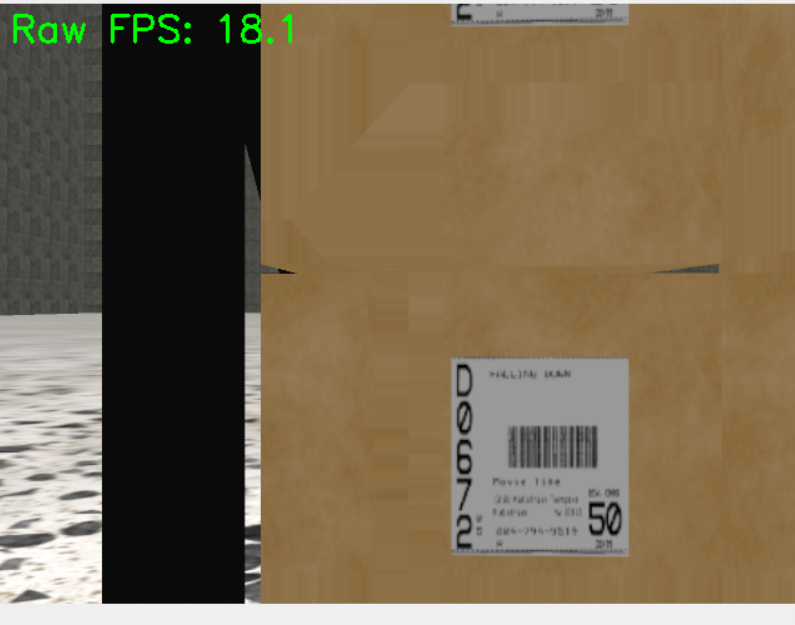barcode: (449, 355, 631, 558)
